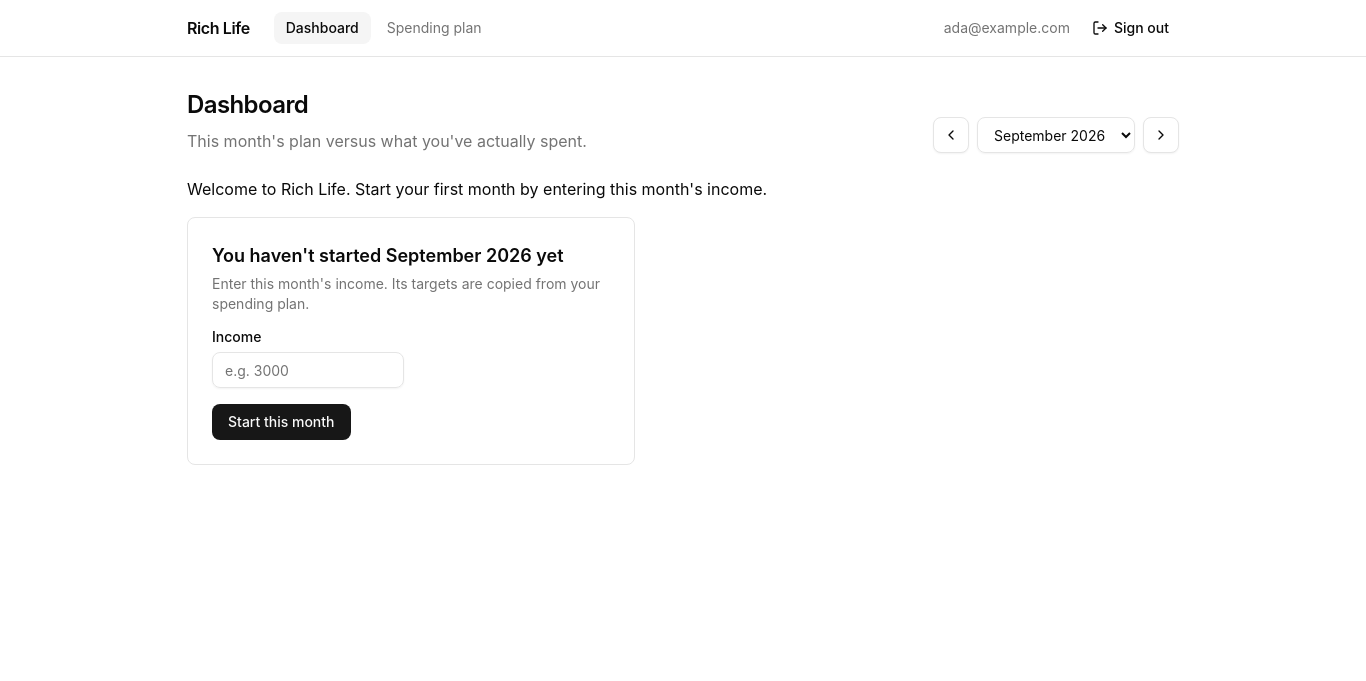
Scenario: DashboardPage › starts the month with the typed income
Type "3000" into the field labelled "Income".
click(308, 370); type("3000")  # box [212,352,404,388]
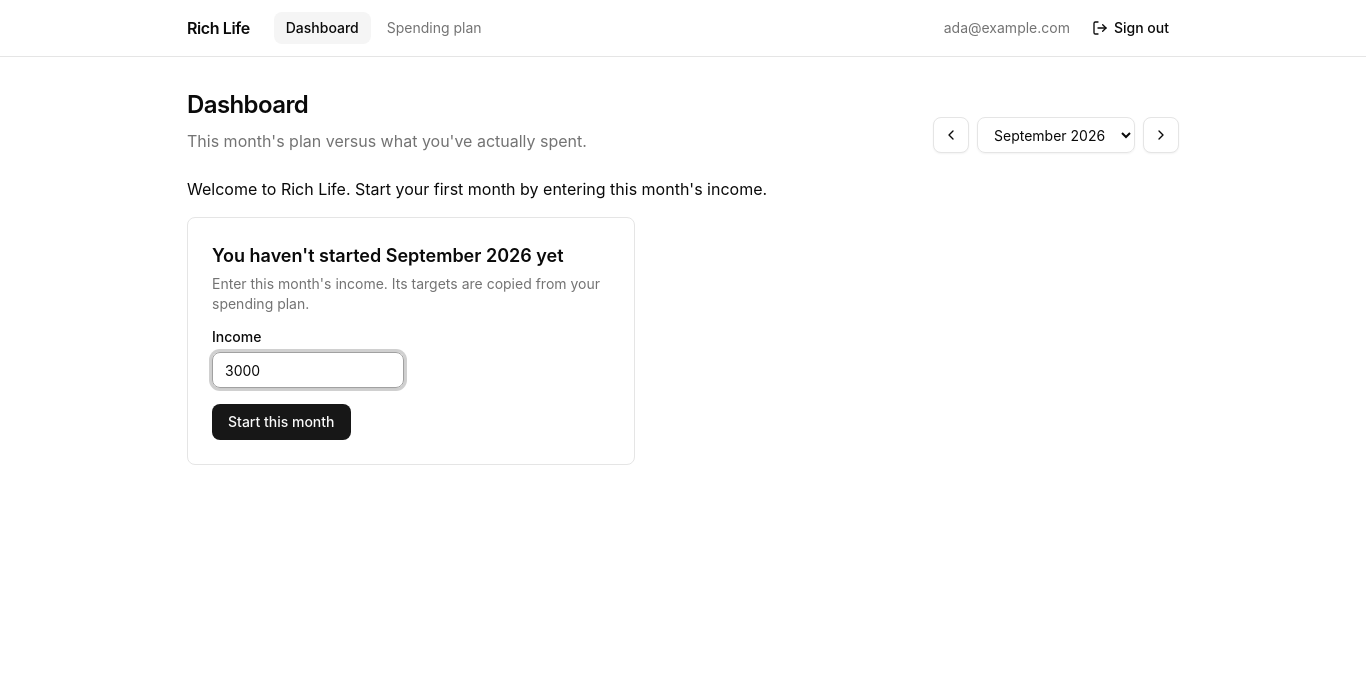
Click the button "Start this month".
click(281, 422)  # box [212,404,350,440]
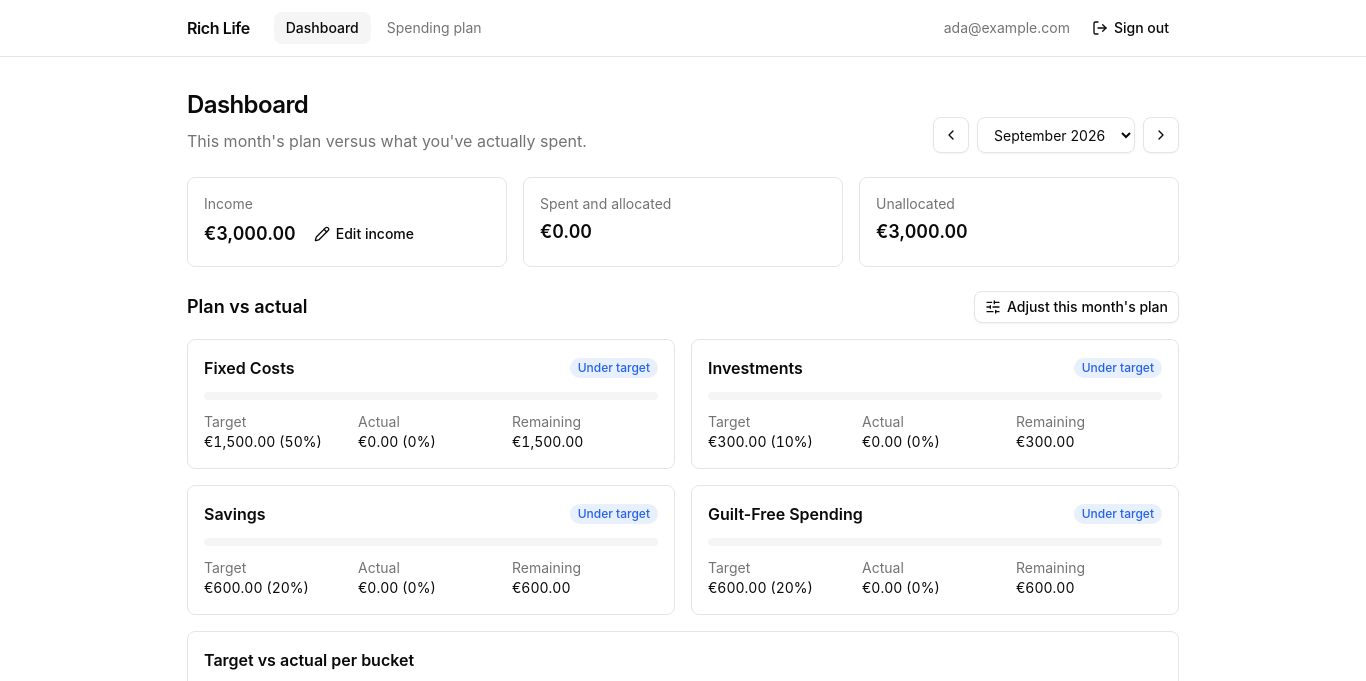
Expected: the button "Edit income" is shown, [304,218,424,250]
